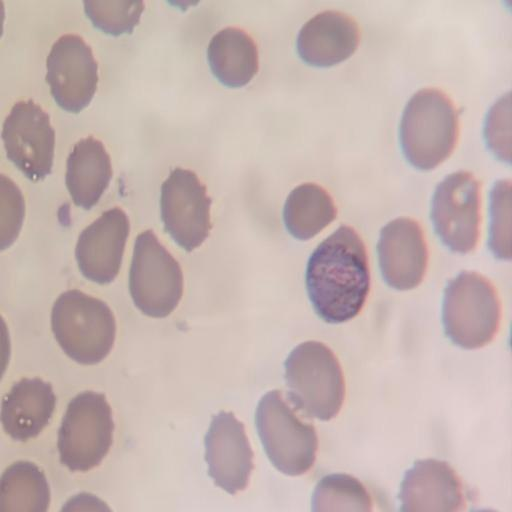Infected: (309, 223, 372, 324)
Uninfected: (127, 226, 186, 322), (254, 388, 316, 479), (401, 86, 461, 170), (281, 339, 341, 423), (57, 392, 115, 473), (442, 268, 501, 347), (431, 169, 485, 255), (50, 292, 114, 363), (3, 100, 57, 184), (159, 166, 210, 254), (203, 409, 253, 498), (47, 32, 100, 115), (379, 215, 436, 292), (73, 209, 127, 285), (61, 136, 112, 214), (0, 376, 59, 443), (296, 9, 361, 67), (281, 179, 337, 243), (400, 459, 464, 512), (207, 26, 259, 91)
